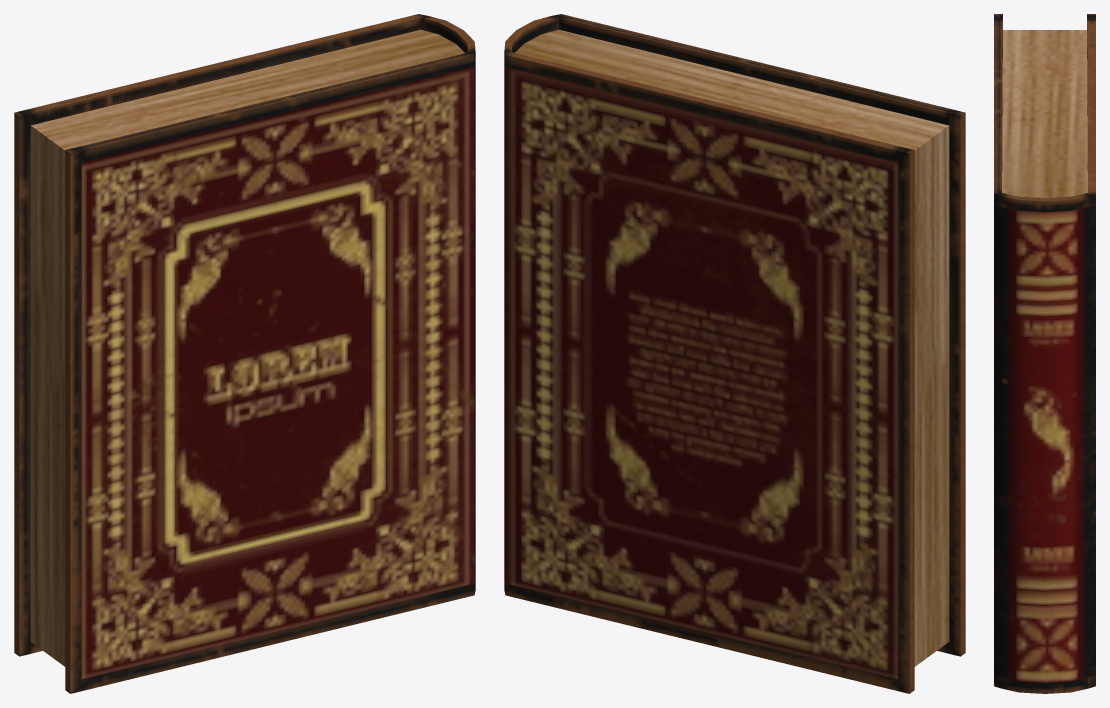
Rendered from Prop_Book_x2.fbx.
3 views of the same model, side by side, from view 1: azimuth 30°, elevation 25°; view 2: azimuth 150°, elevation 25°; view 3: azimuth 270°, elevation 25° (orthographic). The views are drawn at different scales.
Parts seen in each view (by area): view 1: Prop_Book_x2; view 2: Prop_Book_x2; view 3: Prop_Book_x2.
Boxes of the visible parts, x1,y1,x2,y2 form: Prop_Book_x2: [14, 14, 475, 693]; Prop_Book_x2: [504, 14, 965, 693]; Prop_Book_x2: [994, 14, 1095, 693].
Bounding box in the file's own units: 11.46 × 14.04 × 2.64.
